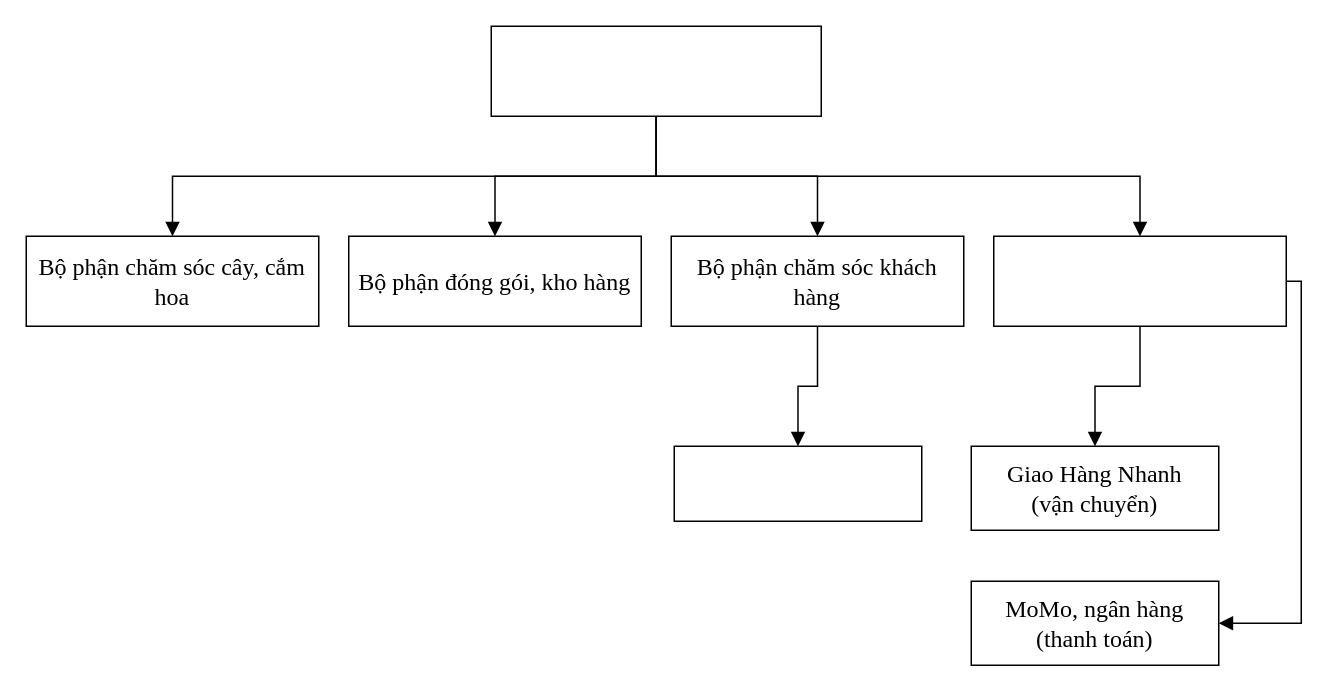
The diagram is 1341 pixels wide and 692 high, and some of its shapes have lost their labels. Each missing label, with the centre of its shape:
"Chủ cửa hàng (Quản trị viên)" goes at point 655,70.
"Khách hàng" goes at point 797,483.
"Đối tác bên ngoài" goes at point 1139,280.
